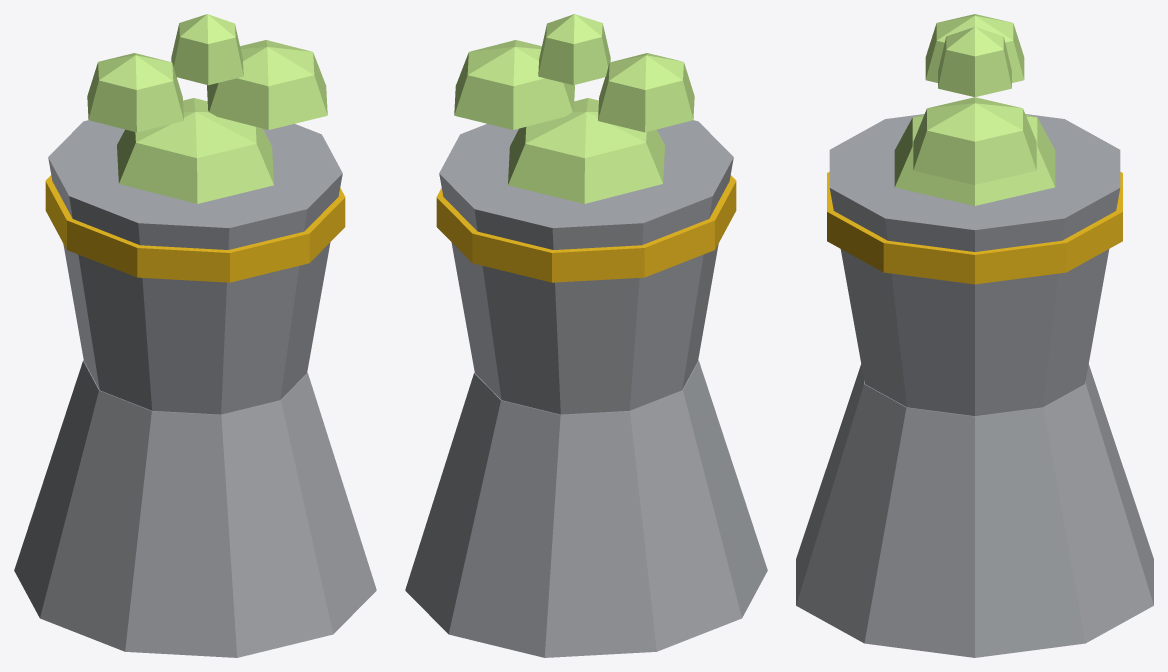
File: env_r11_cooling_tower.glb
3 renders of one model, left to right at view 1: azimuth 30°, elevation 25°; view 2: azimuth 150°, elevation 25°; view 3: azimuth 270°, elevation 25°, orthographic.
Parts seen in each view (by area): view 1: env_r11_cooling_tower; view 2: env_r11_cooling_tower; view 3: env_r11_cooling_tower.
Part boxes in pixels (x1=…): env_r11_cooling_tower: x1=14, y1=14, x2=376, y2=657; env_r11_cooling_tower: x1=405, y1=14, x2=767, y2=657; env_r11_cooling_tower: x1=796, y1=14, x2=1153, y2=657.
Size of the model in its own units: 5.2 by 9 by 5.2.
1 material, 1 textured.
